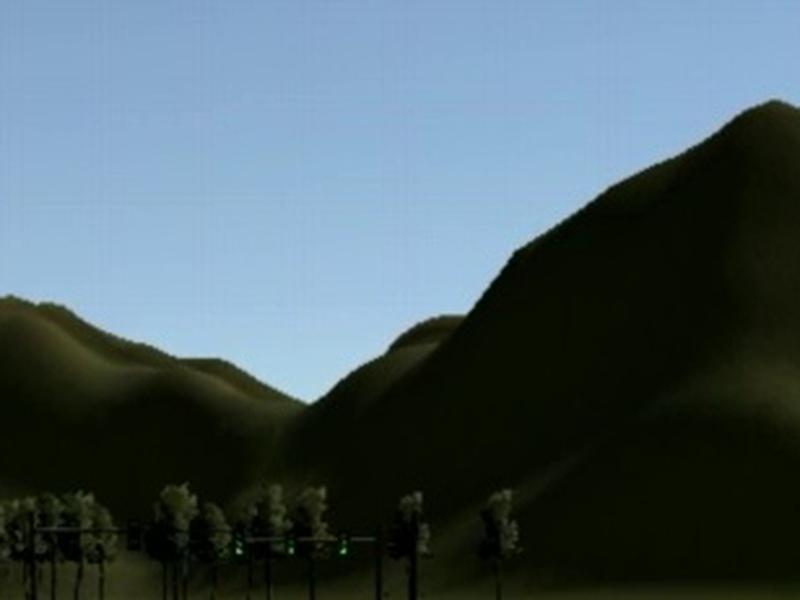Green: (285, 531, 298, 556), (233, 531, 245, 556), (339, 531, 349, 556)
